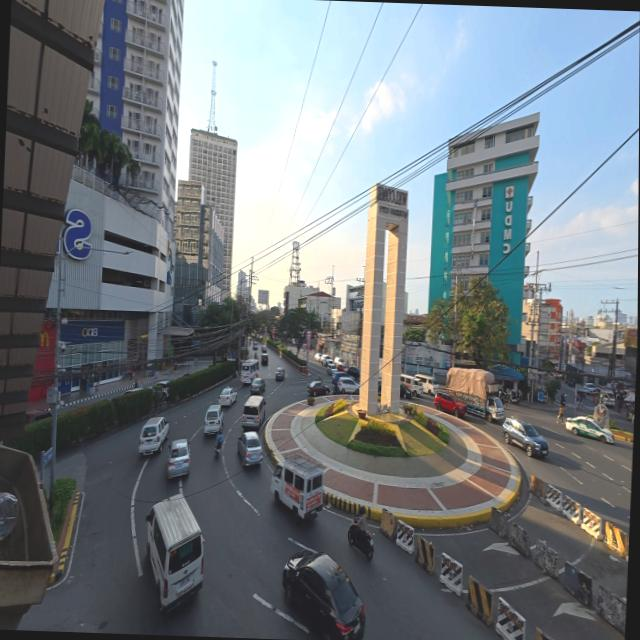bus: (239, 360, 257, 384)
car: (282, 550, 365, 639), (502, 417, 547, 457), (565, 417, 613, 443), (166, 439, 190, 477), (237, 432, 262, 466), (434, 392, 466, 417), (335, 377, 358, 394), (307, 381, 329, 396), (25, 410, 50, 423), (330, 372, 347, 391), (219, 387, 236, 405), (151, 380, 168, 398), (249, 378, 264, 394), (120, 386, 140, 396), (399, 383, 411, 399), (347, 367, 359, 381), (583, 383, 596, 394), (320, 354, 332, 365), (274, 368, 284, 381), (326, 363, 336, 376), (335, 363, 347, 373), (260, 352, 268, 365), (564, 378, 575, 387), (333, 357, 344, 365), (313, 353, 320, 362), (251, 341, 257, 350), (260, 346, 265, 354), (291, 339, 295, 346), (631, 414, 633, 425)
motorcycle: (347, 522, 373, 561), (508, 394, 519, 405), (215, 439, 221, 457)
trucks: (445, 368, 504, 421)
vans: (145, 495, 202, 609), (270, 451, 322, 519), (139, 417, 168, 455), (242, 396, 265, 430), (204, 405, 222, 434), (414, 374, 437, 396), (399, 374, 422, 396), (599, 391, 614, 407)
